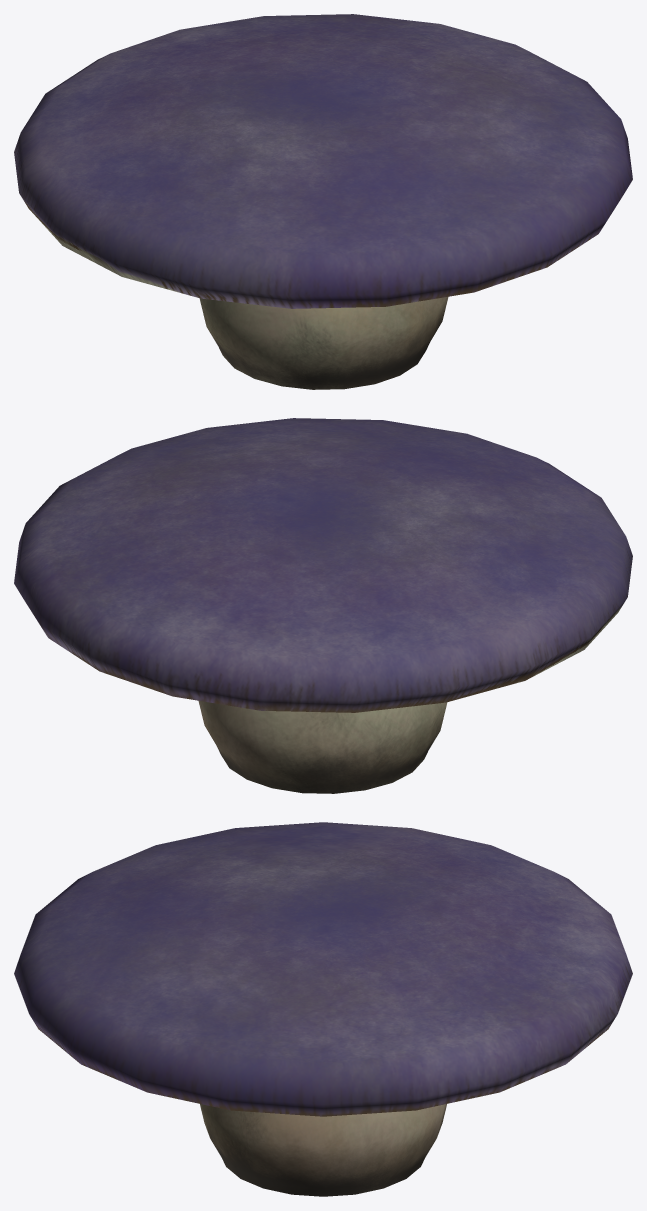
File: Mushroom.fbx
3 renders of one model, top to bottom at view 1: azimuth 30°, elevation 25°; view 2: azimuth 150°, elevation 25°; view 3: azimuth 270°, elevation 25°, orthographic.
Visible parts, largest first — view 1: Mushroom; view 2: Mushroom; view 3: Mushroom.
Part boxes in pixels (left/top/right/bottom): Mushroom: left=14, top=14, right=632, bottom=389; Mushroom: left=14, top=418, right=632, bottom=793; Mushroom: left=14, top=822, right=632, bottom=1196.
Size of the model in its own units: 4.31 by 1.86 by 4.31.
